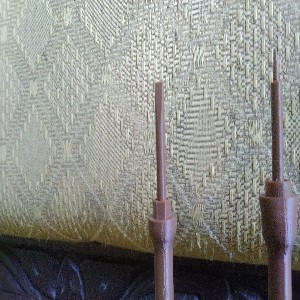obeng: (147, 80, 178, 300)
solder: (258, 48, 300, 300)
